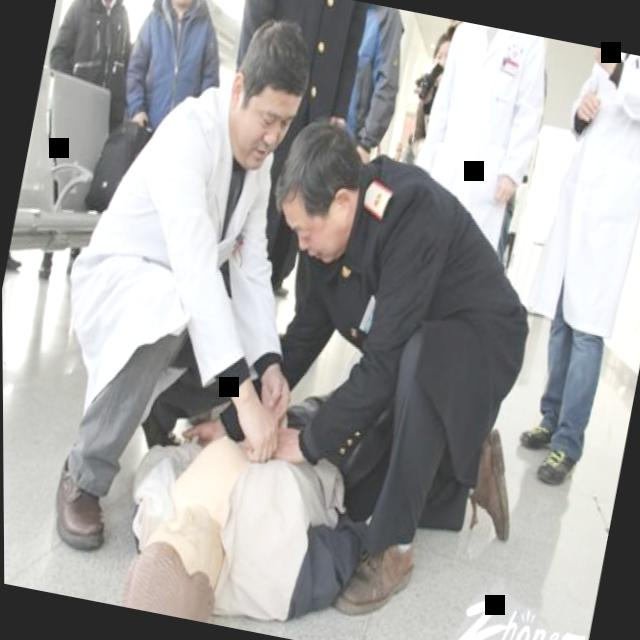Fall-Detected: (99, 316, 422, 640)
